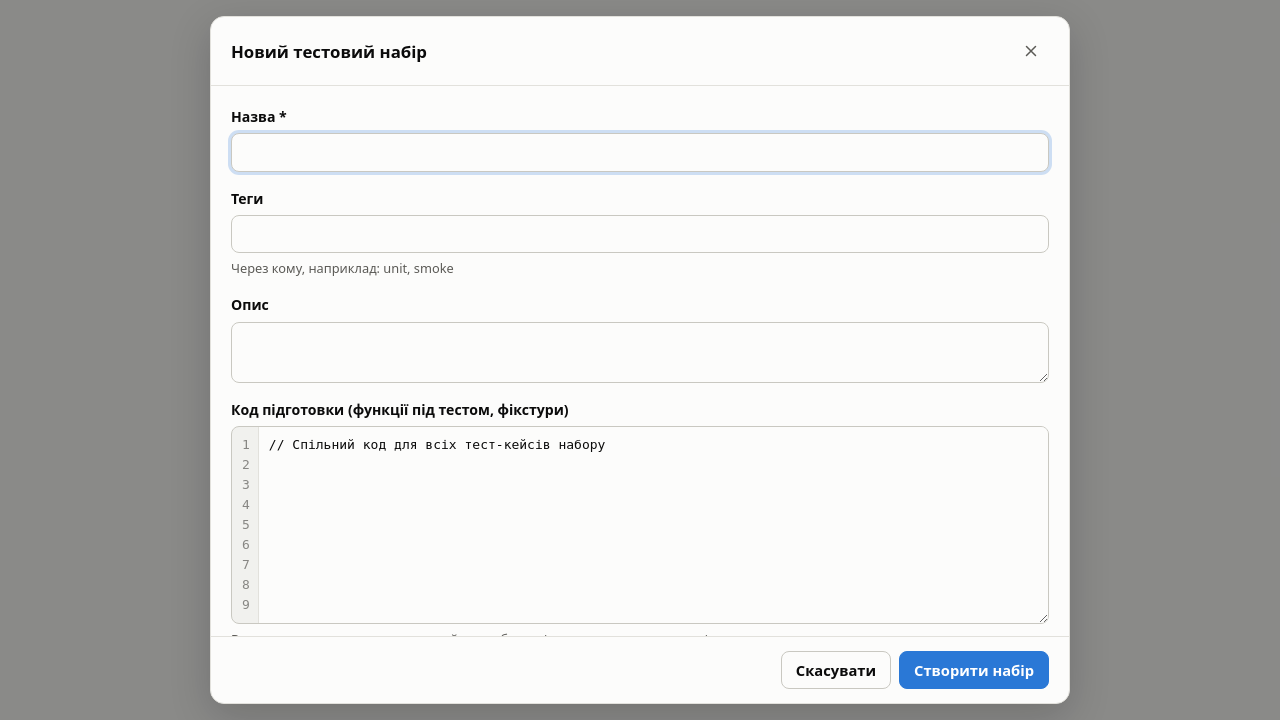
Scenario: SuiteFormModal › не відправляє форму з помилками і відправляє коректну
This screenshot has width=1280, height=720.
Later steps or results of the test are not shown.
Click the button "Створити набір". click: {"x": 974, "y": 670}
box: [899, 651, 1049, 689]
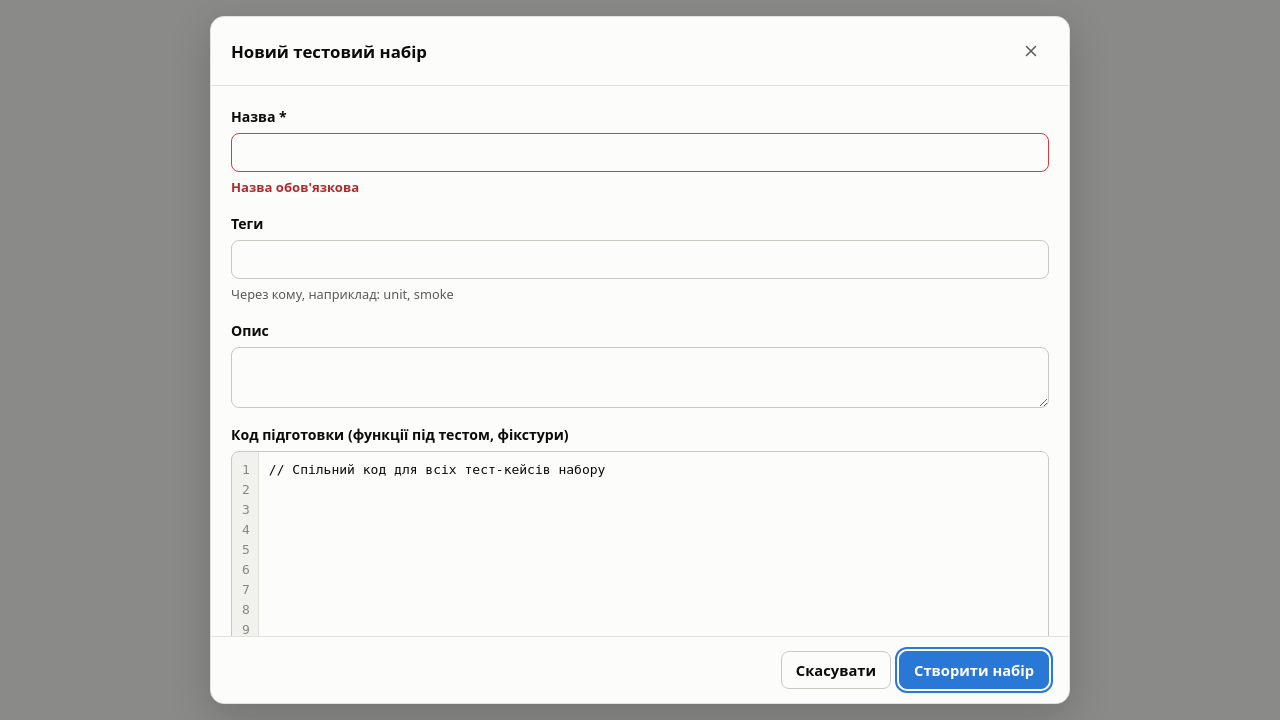
Result: the text "Назва обов'язкова" is shown at [231, 178, 359, 196]
Type "кошик" into the field labelled "Назва *". click: {"x": 640, "y": 152}
box: [231, 133, 1049, 172]
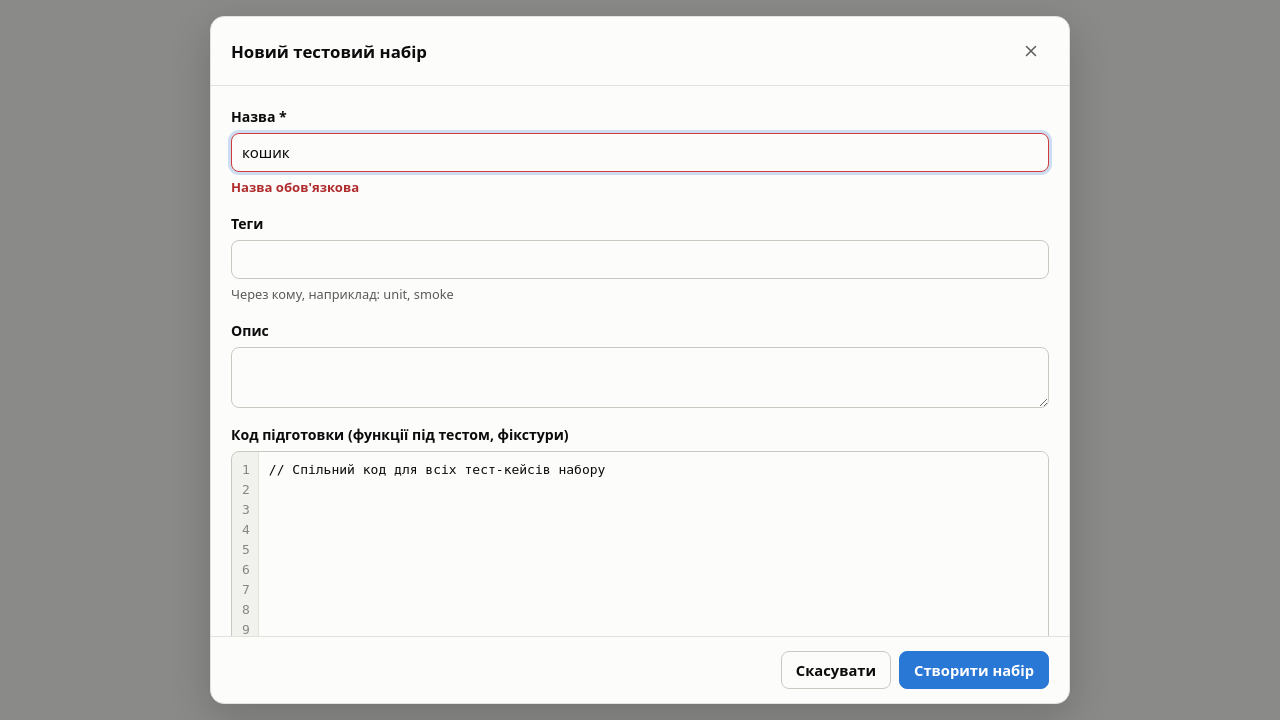
Click the button "Створити набір". click: {"x": 974, "y": 670}
box: [899, 651, 1049, 689]
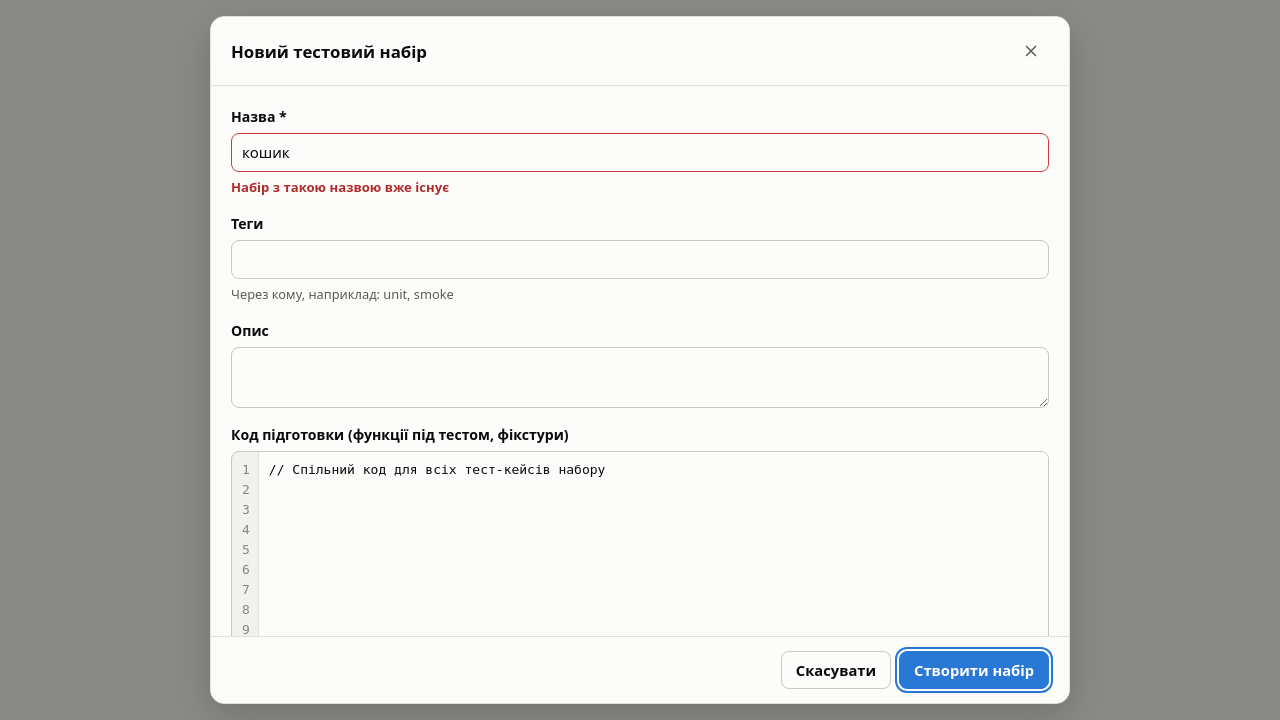
Result: the text "Набір з такою назвою вже існує" is shown at [231, 178, 449, 196]
